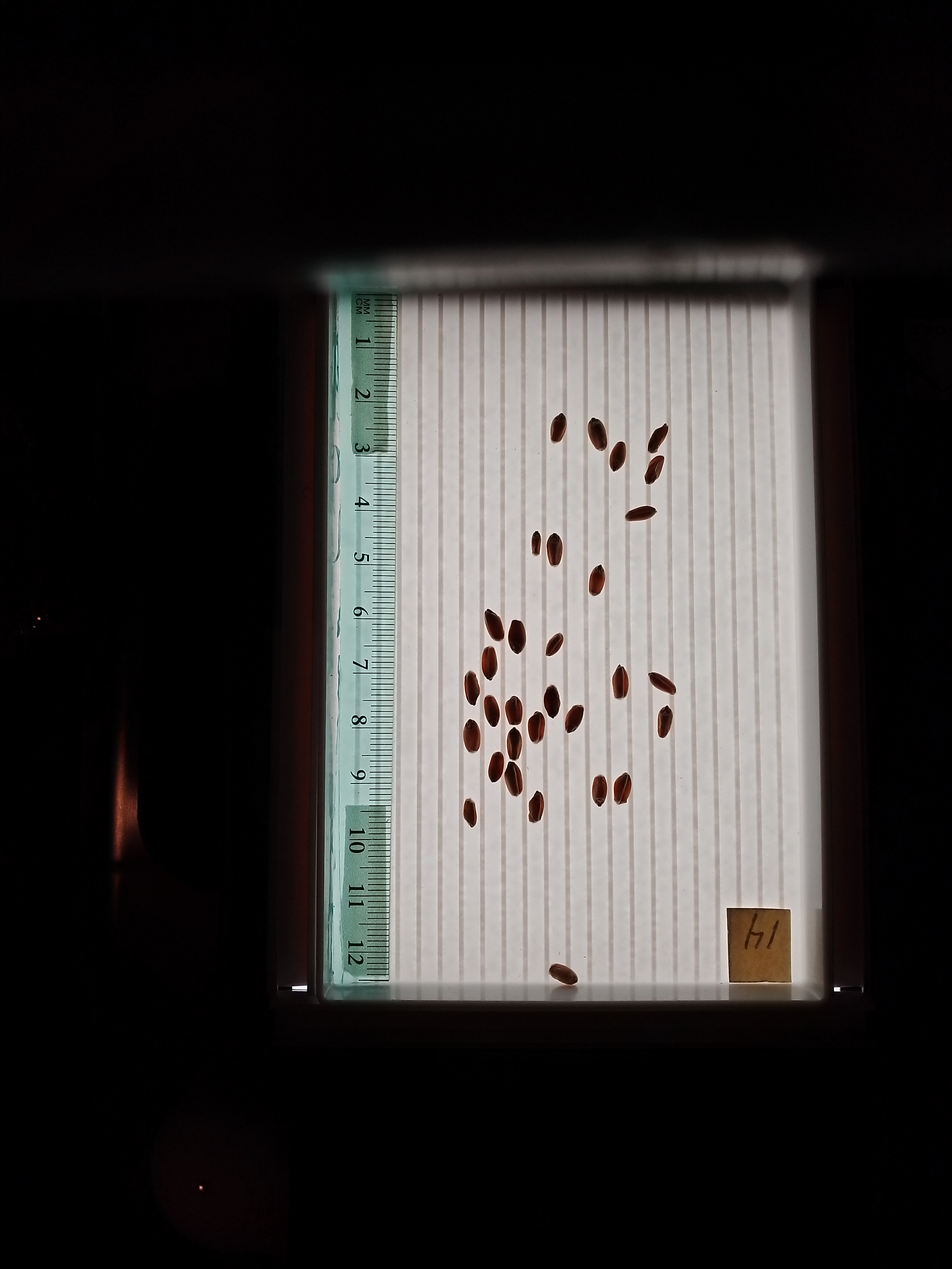seed mask: (505, 762, 523, 797), (588, 418, 607, 451), (508, 620, 526, 653), (550, 964, 578, 985), (485, 610, 504, 640), (649, 673, 676, 694), (612, 666, 629, 699), (648, 426, 668, 454), (614, 774, 632, 804), (463, 721, 480, 752), (645, 457, 664, 484), (565, 706, 584, 733), (547, 534, 563, 566), (528, 713, 545, 743), (544, 686, 560, 717), (610, 442, 626, 472), (658, 706, 673, 738), (482, 648, 498, 678), (484, 696, 500, 726), (528, 793, 544, 823), (550, 414, 566, 443), (626, 506, 655, 522), (589, 566, 605, 595), (488, 753, 504, 782), (592, 776, 607, 806), (507, 729, 522, 758), (465, 673, 479, 704), (506, 697, 522, 724), (463, 799, 477, 826), (546, 634, 563, 655), (532, 532, 541, 555)
